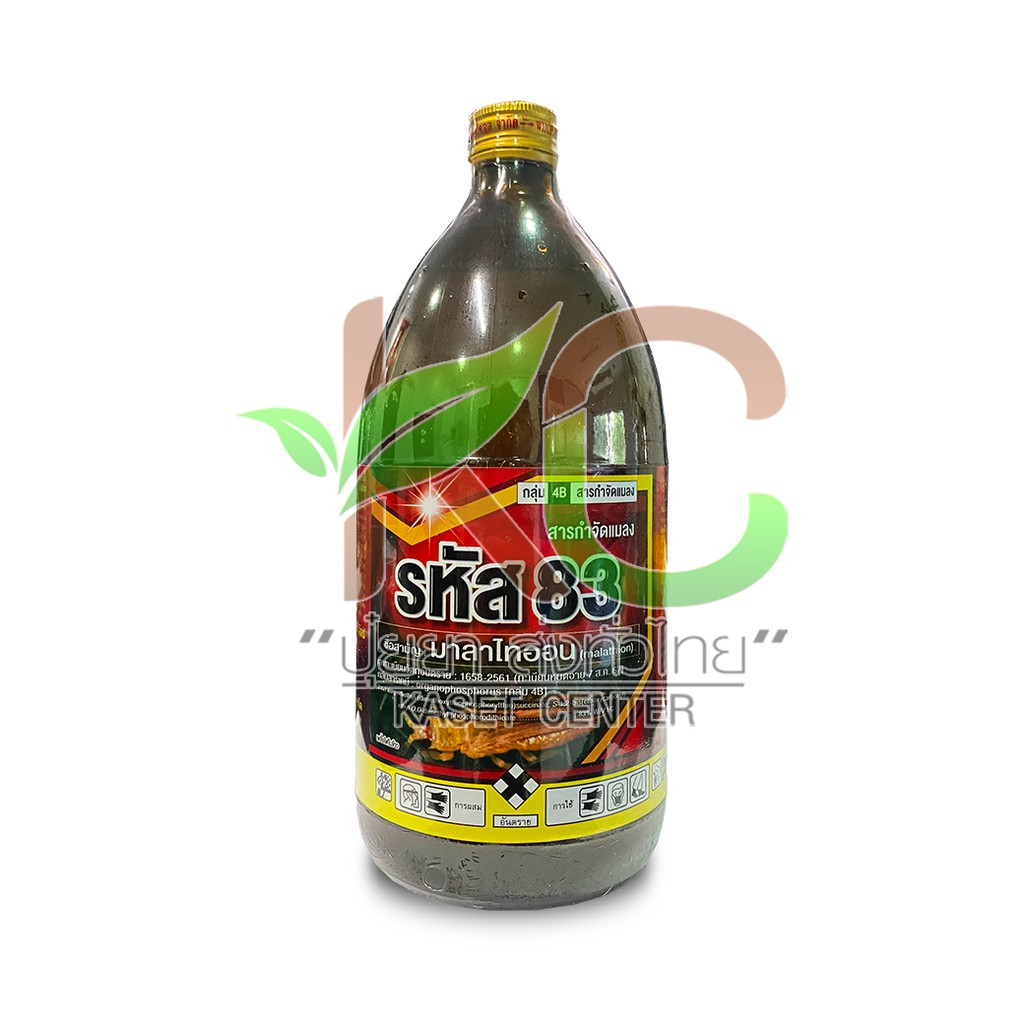Insecticide: (342, 91, 677, 910)
